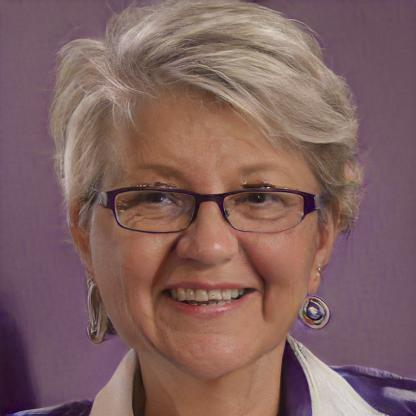glasses: (96, 178, 316, 240)
